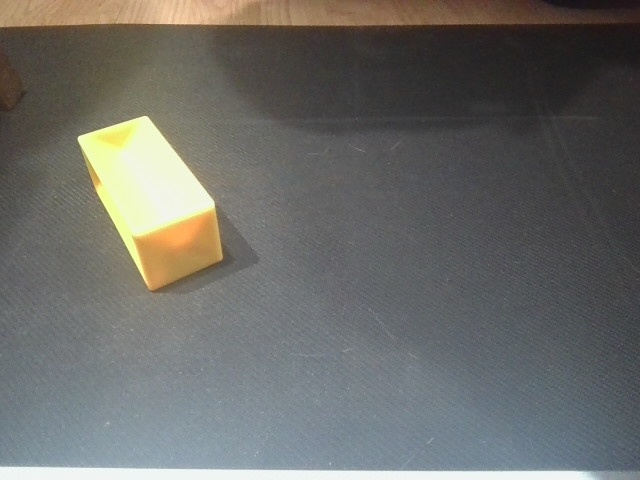YellowSample: (74, 112, 231, 296)
